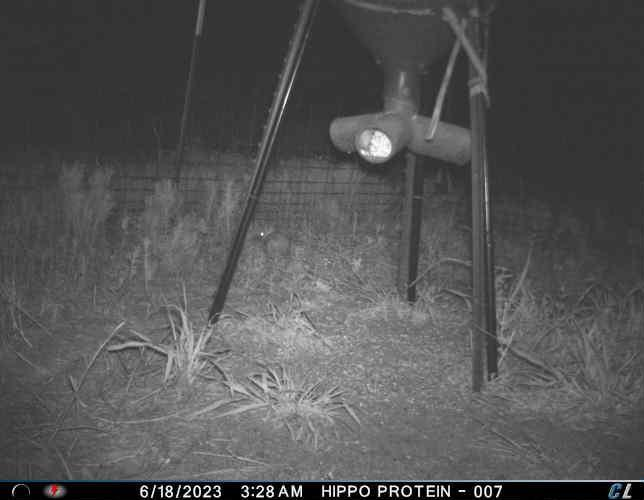Rabbit: (257, 220, 291, 262)
